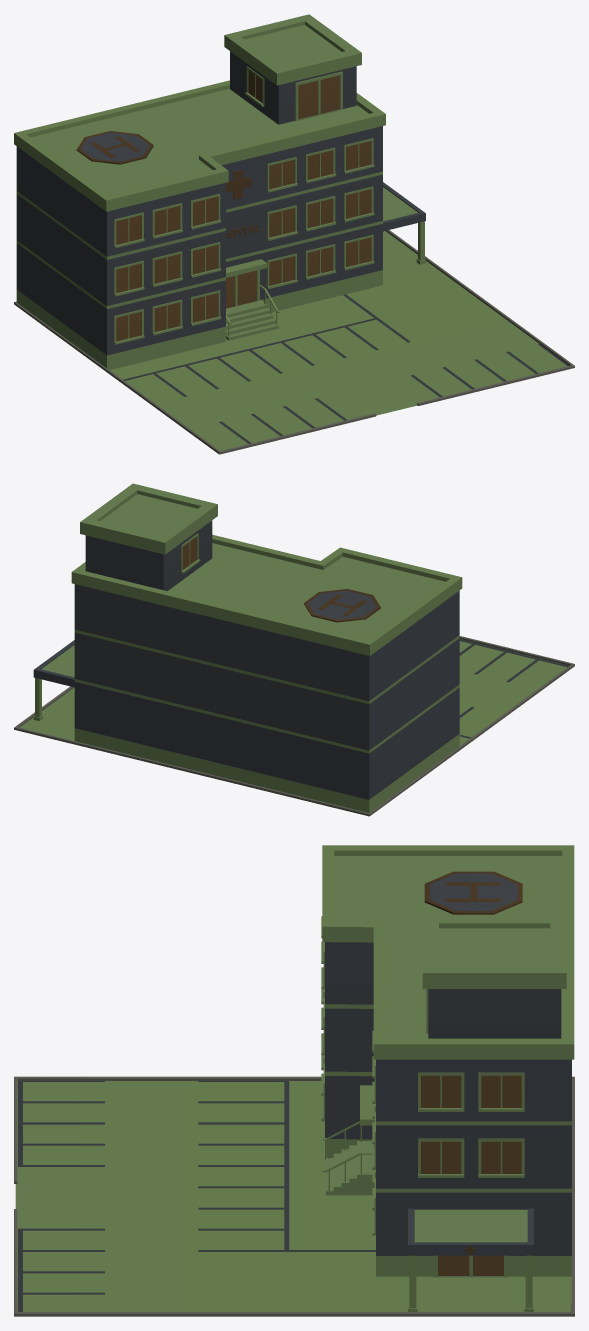
File: Hospital_01.fbx
3 views of the same model, one above another, from view 1: azimuth 30°, elevation 25°; view 2: azimuth 150°, elevation 25°; view 3: azimuth 270°, elevation 25° (orthographic). The views are drawn at different scales.
Visible parts, largest first — view 1: Hospital_01; view 2: Hospital_01; view 3: Hospital_01.
Part boxes in pixels (<box>): Hospital_01: <box>14,14,574,454</box>; Hospital_01: <box>14,483,574,816</box>; Hospital_01: <box>14,845,574,1316</box>.
Bounding box in the file's own units: 24.16 × 14.35 × 24.16.
